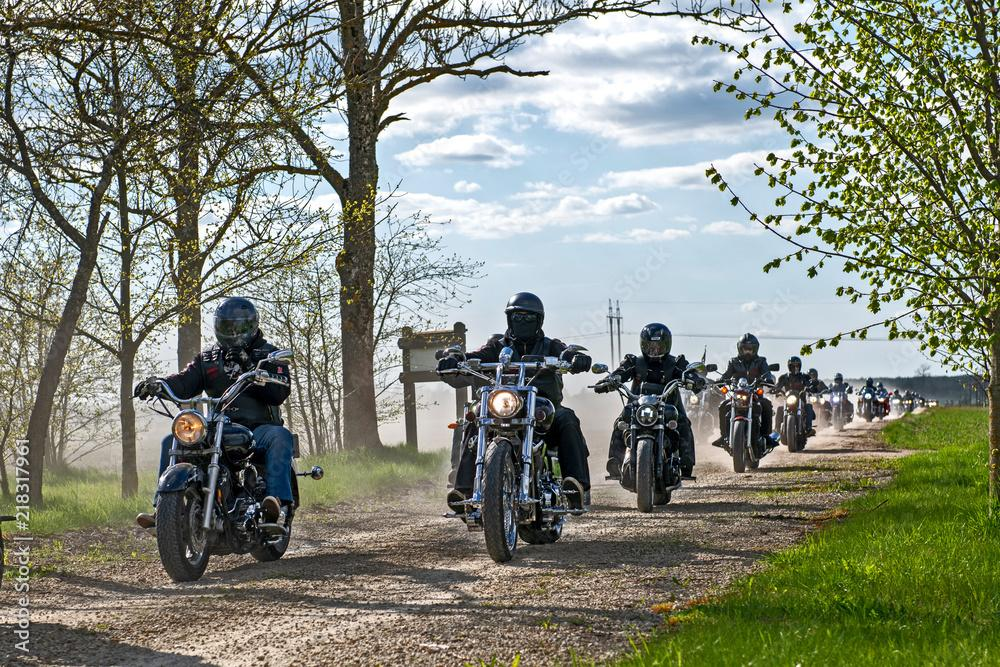helmet: (212, 296, 260, 354), (503, 291, 545, 343), (639, 322, 673, 365), (736, 332, 760, 364), (787, 355, 802, 376)
